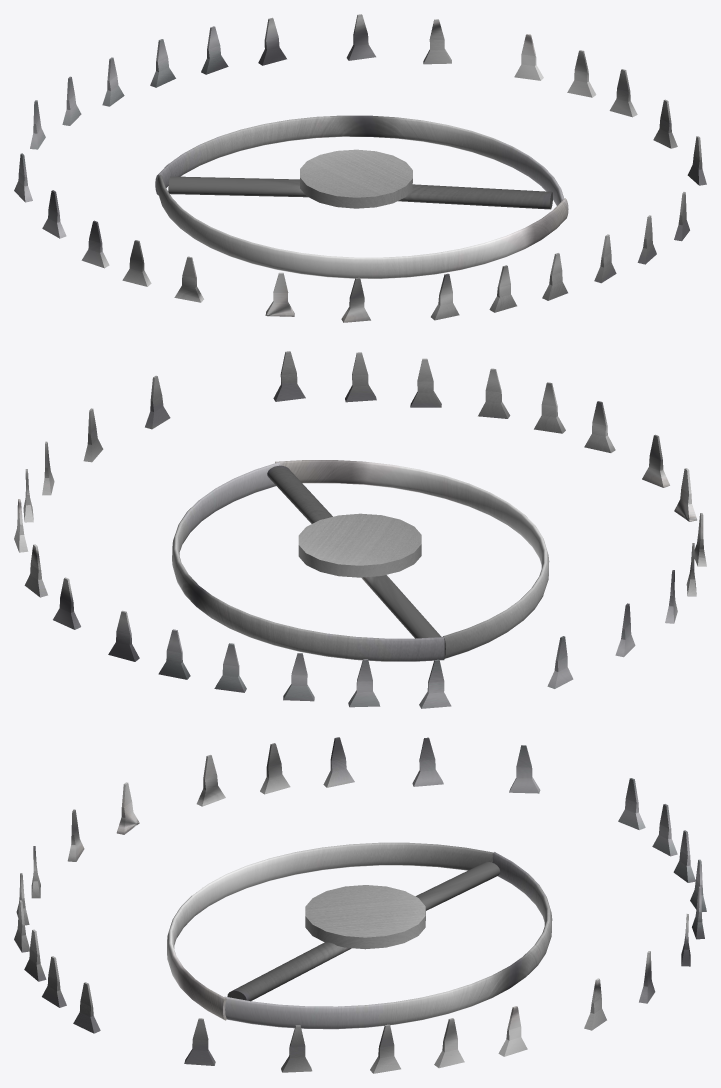
The model's file is Trap.FBX.
3 renders of one model, top to bottom at view 1: azimuth 30°, elevation 25°; view 2: azimuth 150°, elevation 25°; view 3: azimuth 270°, elevation 25°, orthographic. The views are drawn at different scales.
Visible parts, largest first — view 1: Arc001, Cylinder002, Cylinder001, Box021, Box019, Box020, Box008, Box009, Box018, Box022, Box003, Box002 (+13 smaller); view 2: Arc001, Cylinder002, Cylinder001, Box014, Box012, Box007, Box013, Box011, Box025, Box024, Box026, Box027 (+9 smaller); view 3: Arc001, Cylinder002, Cylinder001, Box005, Box006, Box016, Box001, Box015, Box017, Box002, Box018, Box003 (+9 smaller).
Part boxes in pixels (box(x1,y1,x2,y2)): Arc001: box(155, 115, 568, 278); Cylinder002: box(300, 149, 412, 208); Cylinder001: box(168, 176, 552, 209); Box021: box(346, 14, 375, 60); Box019: box(514, 34, 543, 80); Box020: box(423, 19, 451, 64); Box008: box(265, 272, 294, 316); Box009: box(341, 277, 370, 322); Box018: box(567, 50, 596, 97); Box022: box(258, 17, 286, 65); Box003: box(174, 256, 203, 302); Box002: box(122, 240, 151, 286); Arc001: box(172, 460, 549, 661); Cylinder002: box(298, 513, 421, 577); Cylinder001: box(267, 465, 441, 638); Box014: box(410, 358, 441, 407); Box012: box(345, 352, 376, 402); Box007: box(478, 368, 510, 418); Box013: box(273, 351, 305, 401); Box011: box(534, 382, 565, 433); Box025: box(283, 653, 314, 701); Box024: box(214, 643, 246, 692); Box026: box(348, 659, 380, 707); Box027: box(419, 659, 451, 708); Arc001: box(167, 842, 552, 1029); Cylinder002: box(305, 885, 425, 949); Cylinder001: box(227, 862, 500, 1001); Box005: box(412, 737, 443, 786); Box006: box(509, 745, 540, 793); Box016: box(281, 1025, 312, 1072); Box001: box(323, 737, 354, 787); Box015: box(184, 1018, 215, 1065); Box017: box(370, 1024, 400, 1073); Box002: box(260, 743, 290, 794); Box018: box(434, 1018, 464, 1068); Box003: box(196, 755, 225, 806).
Size of the model in its own units: 90.01 by 9.31 by 89.36.
Materials: 1 (1 with a texture image).
